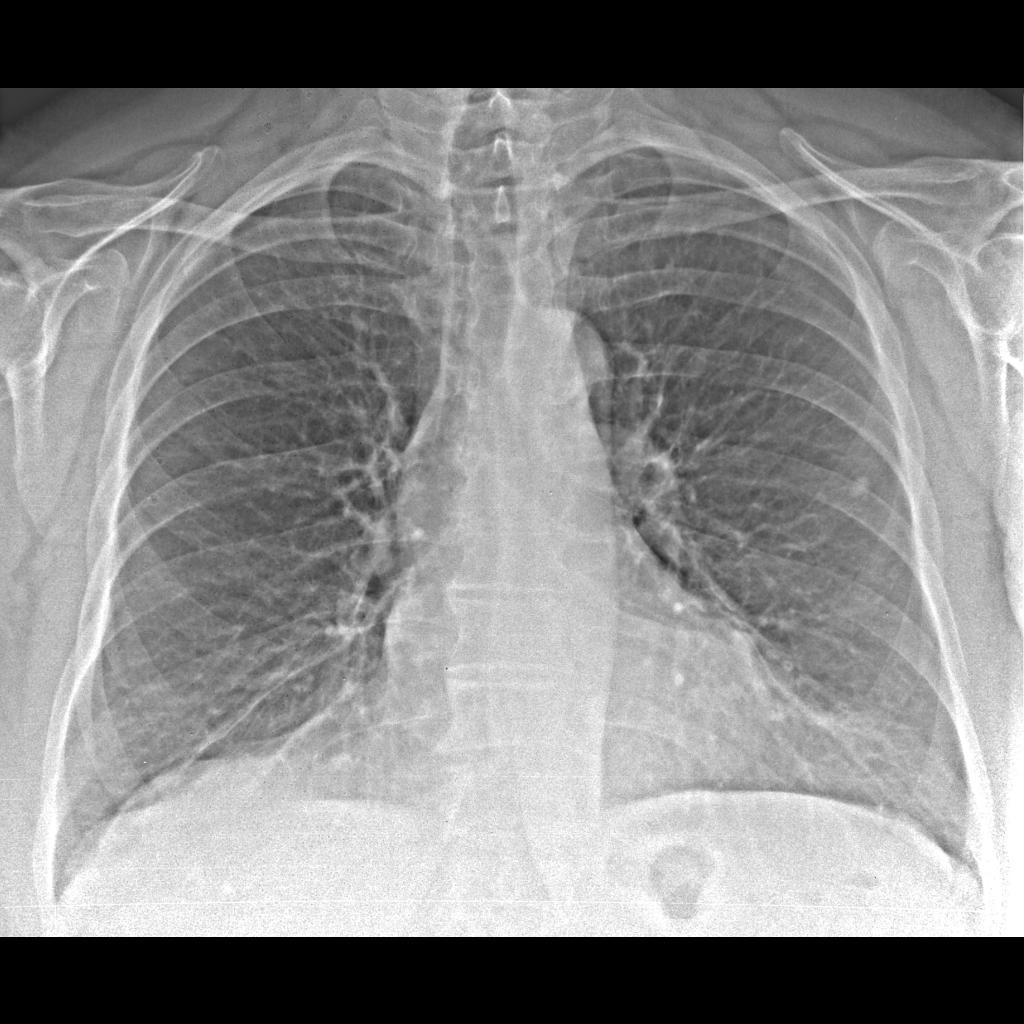Nodule: (849, 472, 879, 513)
